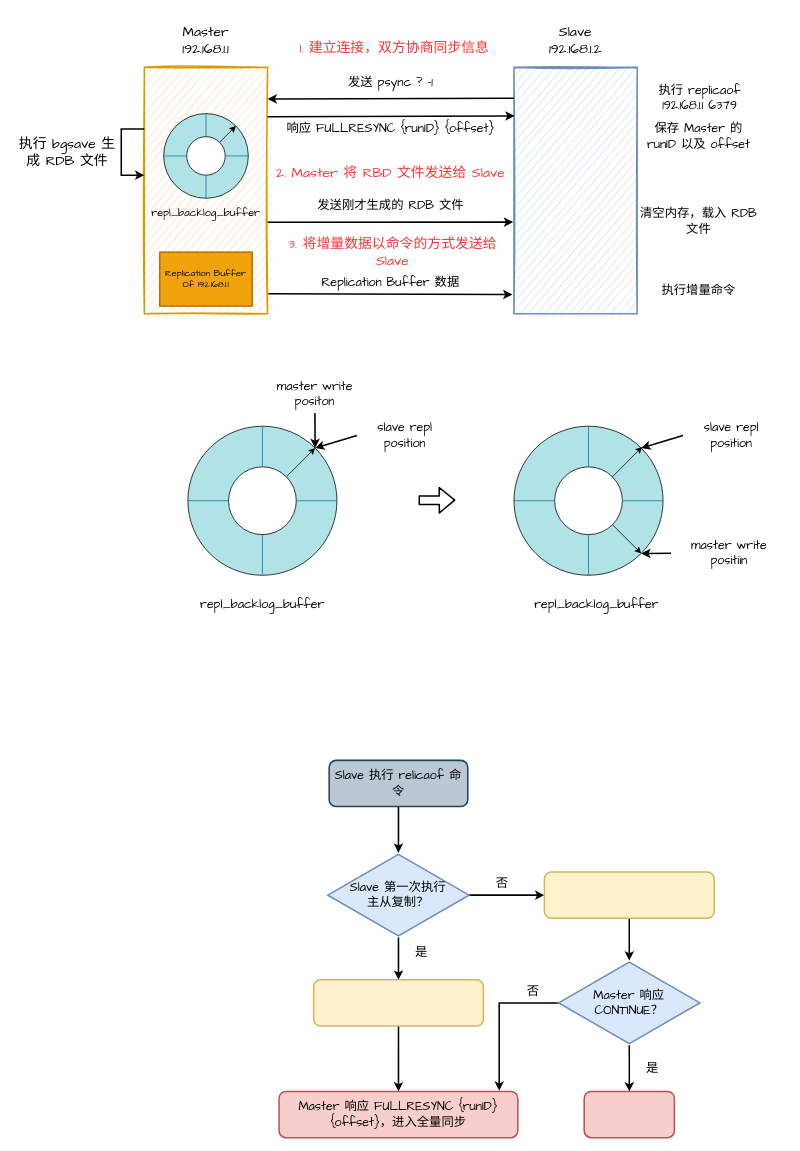
Some shapes in this 800 by 1151 pixel diagram are drawn without their labels. Here are the shapes that lost their labels. From the top down, the centre of each, then its label:
the point at 629,895: 发送 psync {runID} {offset} 给 Master
the point at 398,1002: 发送 psync ? -1 给 Master
the point at 629,1114: 开始增量同步
